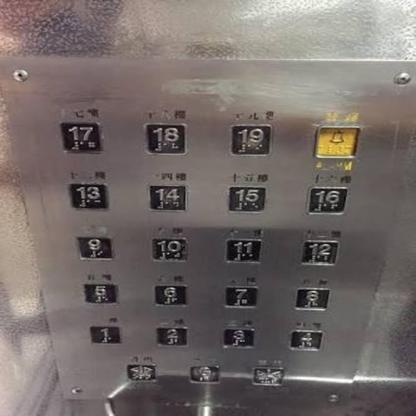1: (85, 322, 123, 346)
10: (146, 234, 190, 264)
11: (220, 236, 264, 266)
12: (296, 237, 340, 266)
13: (65, 180, 112, 211)
14: (144, 182, 190, 214)
15: (222, 184, 268, 214)
16: (304, 184, 350, 216)
17: (55, 119, 105, 153)
18: (140, 120, 190, 157)
19: (224, 121, 275, 157)
2: (152, 323, 190, 348)
3: (219, 325, 256, 350)
4: (286, 328, 325, 352)
5: (80, 281, 120, 306)
6: (149, 282, 190, 308)
7: (219, 283, 260, 309)
8: (290, 284, 333, 312)
9: (74, 233, 117, 262)
G: (186, 362, 223, 385)
alarm: (310, 122, 363, 161)
close: (248, 364, 287, 387)
open: (123, 361, 159, 384)
